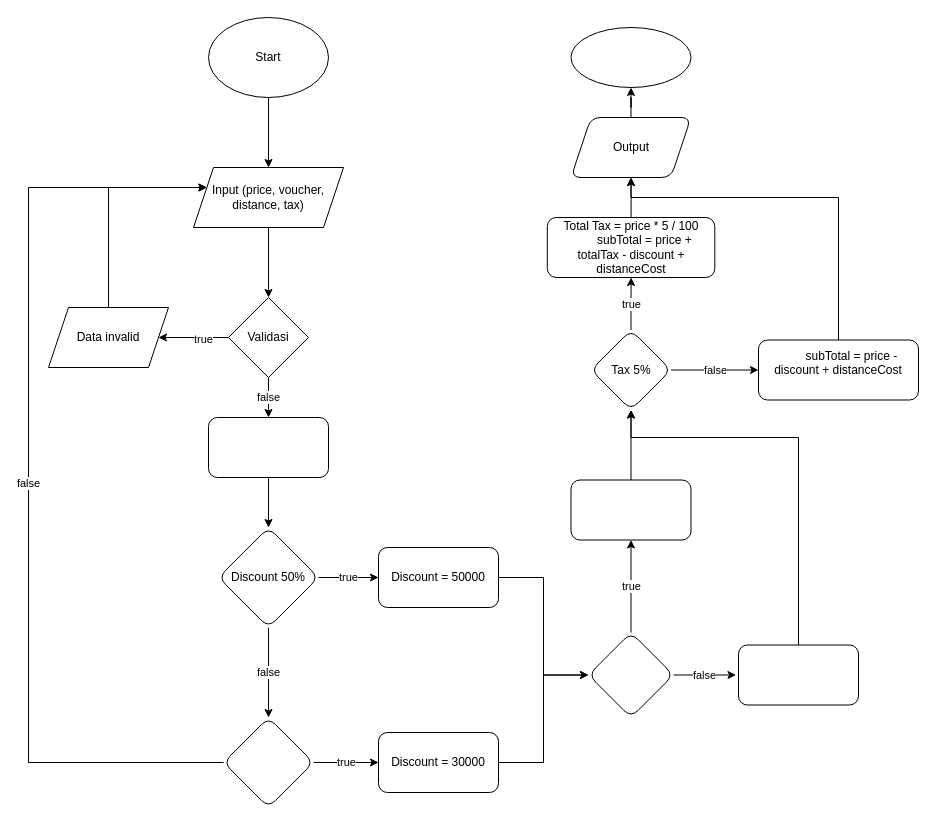
This 936x825 diagram has some shape labels left out. Each missing label, with the centre of its shape:
"Discount 60%" goes at (268,762).
"distance <= 2" goes at (631,675).
"Distance Cost = 5000" goes at (630,509).
"Distance Cost = 5000 + (3000 / 1 km)" goes at (798,674).
"End" goes at (630,57).
"Inisialisasi" goes at (268,447).
